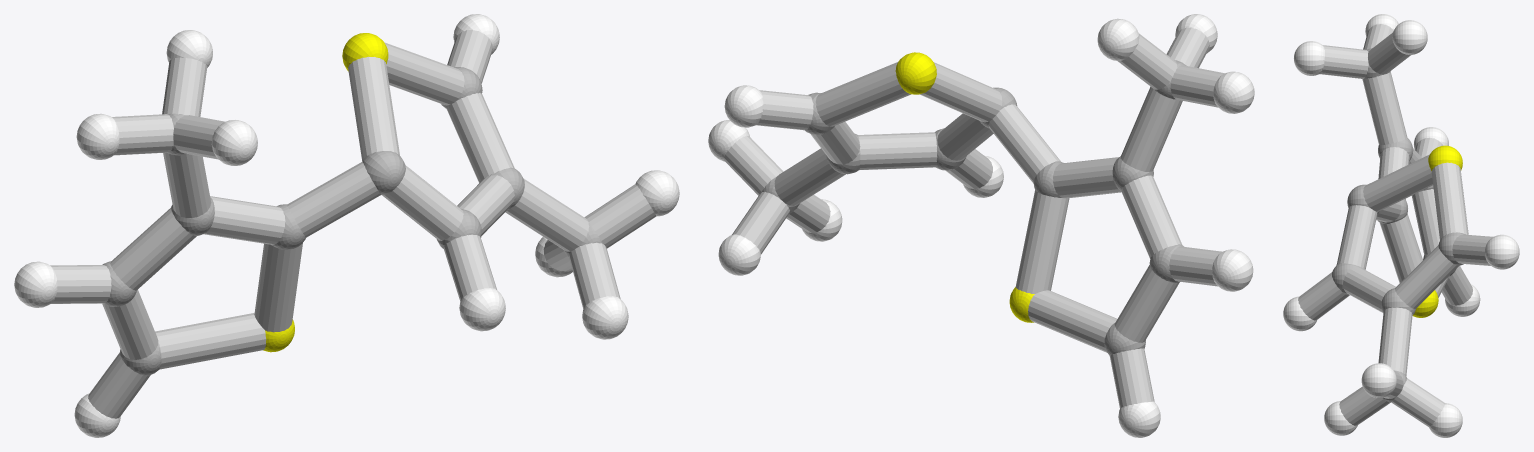
Rendered from Methylthiophene_Phi_60_Theta_310_Methylthiophene.glb.
3 views of the same model, side by side, from view 1: azimuth 30°, elevation 25°; view 2: azimuth 150°, elevation 25°; view 3: azimuth 270°, elevation 25° (orthographic). The views are drawn at different scales.
Visible parts, largest first — view 1: grp7965, grp3621, grp1, grp7241; view 2: grp7965, grp3621, grp1, grp7241; view 3: grp7965, grp3621, grp1, grp7241.
Boxes of the visible parts, x1,y1,x2,y2 form: grp7965: (50,30,656,418); grp3621: (14,14,679,437); grp1: (102,67,602,375); grp7241: (263,33,388,352); grp7965: (724,27,1224,408); grp3621: (708,14,1254,437); grp1: (761,60,1186,355); grp7241: (895,52,1034,322); grp7965: (1298,24,1493,427); grp3621: (1283,14,1519,437); grp1: (1332,48,1465,402); grp7241: (1413,145,1462,317).
Size of the model in its own units: 9.31 by 5.91 by 4.02.
